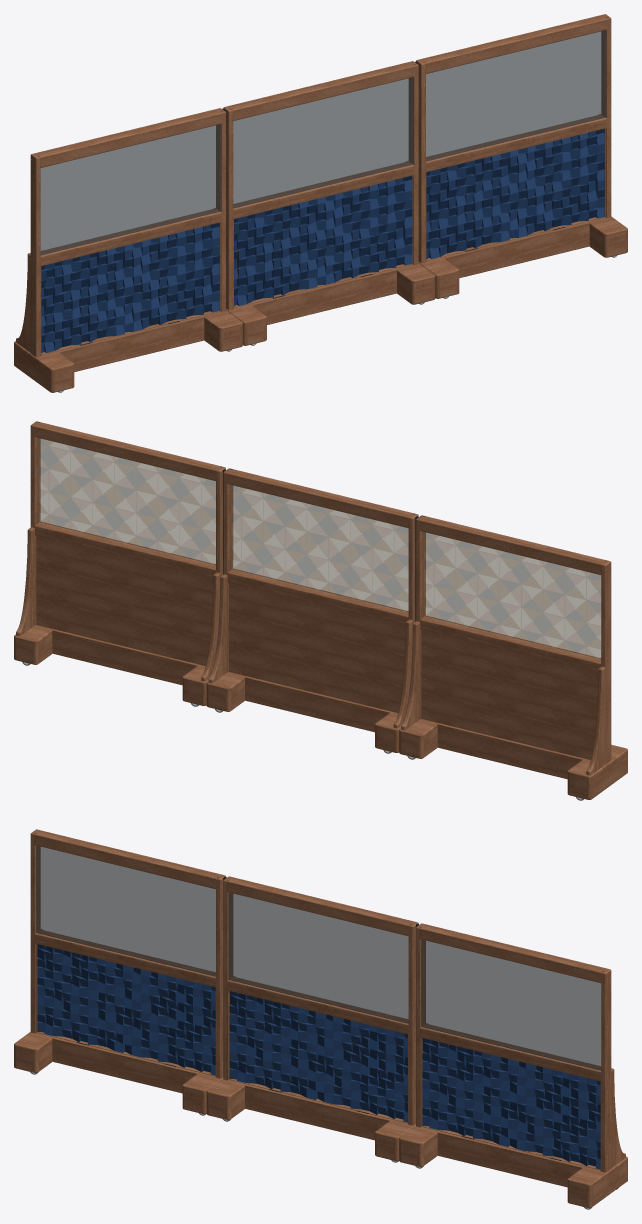
File: v10-linen-marquetry-chestnut-three.glb
3 renders of one model, top to bottom at view 1: azimuth 30°, elevation 25°; view 2: azimuth 150°, elevation 25°; view 3: azimuth 330°, elevation 25°, orthographic.
Visible parts, largest first — view 1: Left Wood, Left Linen Marquetry reverse, Linen Marquetry reverse, Right Linen Marquetry reverse, Right Navy Everwood relief, Left Navy Everwood relief, Navy Everwood relief, Right Wood, Wood; view 2: Left Wood, Right Wood, Wood, Left Linen Marquetry print, Right Linen Marquetry print, Linen Marquetry print; view 3: Right Wood, Linen Marquetry reverse, Right Linen Marquetry reverse, Left Linen Marquetry reverse, Left Navy Everwood relief, Right Navy Everwood relief, Navy Everwood relief, Left Wood, Wood.
Part boxes in pixels (box(x1,y1,x2,y2)): Left Wood: box(14, 108, 242, 392); Left Linen Marquetry reverse: box(40, 124, 220, 255); Linen Marquetry reverse: box(233, 77, 413, 208); Right Linen Marquetry reverse: box(426, 30, 605, 161); Right Navy Everwood relief: box(426, 128, 604, 258); Left Navy Everwood relief: box(41, 223, 219, 352); Navy Everwood relief: box(234, 175, 412, 305); Right Wood: box(416, 14, 627, 298); Wood: box(223, 61, 435, 345); Left Wood: box(399, 515, 627, 799); Right Wood: box(14, 421, 225, 705); Wood: box(206, 468, 418, 752); Left Linen Marquetry print: box(425, 532, 601, 658); Right Linen Marquetry print: box(39, 438, 215, 564); Linen Marquetry print: box(232, 485, 408, 611); Right Wood: box(399, 923, 627, 1207); Linen Marquetry reverse: box(228, 892, 408, 1023); Right Linen Marquetry reverse: box(421, 940, 601, 1070); Left Linen Marquetry reverse: box(36, 846, 215, 976); Left Navy Everwood relief: box(37, 944, 215, 1075); Right Navy Everwood relief: box(422, 1038, 600, 1169); Navy Everwood relief: box(229, 991, 407, 1122); Left Wood: box(14, 829, 225, 1114); Wood: box(206, 876, 418, 1161).
Size of the model in its own units: 5.03 by 1.91 by 0.5842.
10 materials, 2 textured.
